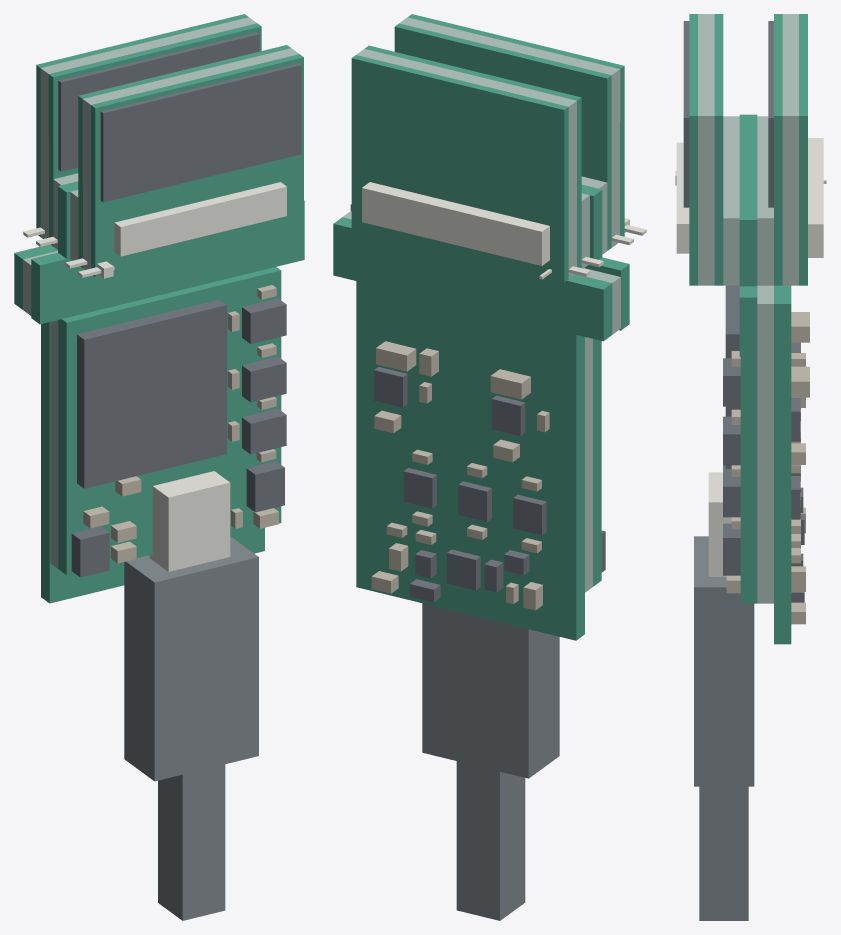
Rendered from Option_B_Head_Stack_V2_Solid.glb.
3 views of the same model, side by side, from view 1: azimuth 30°, elevation 25°; view 2: azimuth 150°, elevation 25°; view 3: azimuth 270°, elevation 25° (orthographic). The views are drawn at different scales.
Visible parts, largest first — view 1: ic, board, plug, conn, fill, passive; view 2: board, plug, fill, ic, conn, passive; view 3: board, fill, plug, ic, conn, passive.
Part boxes in pixels (box(x1,y1,x2,y2)): ic: box(58, 32, 301, 577); board: box(14, 14, 304, 603); plug: box(124, 536, 258, 920); conn: box(23, 182, 286, 571); fill: box(23, 17, 298, 568); passive: box(83, 285, 278, 563); board: box(333, 14, 629, 640); plug: box(422, 603, 559, 920); fill: box(342, 17, 620, 592); ic: box(374, 367, 605, 602); conn: box(362, 182, 646, 279); passive: box(371, 341, 549, 610); board: box(689, 14, 807, 644); fill: box(698, 14, 798, 603); plug: box(694, 536, 754, 920); ic: box(683, 21, 804, 602); conn: box(675, 138, 826, 576); passive: box(726, 312, 809, 624).
Bounding box in the file's own units: 27.9 × 84.45 × 13.77.
